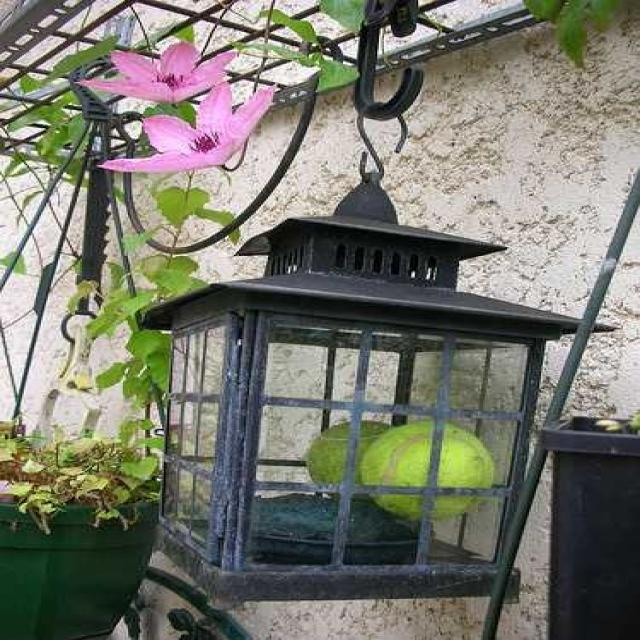Tennis_Ball: (365, 422, 495, 525), (310, 422, 376, 488)
